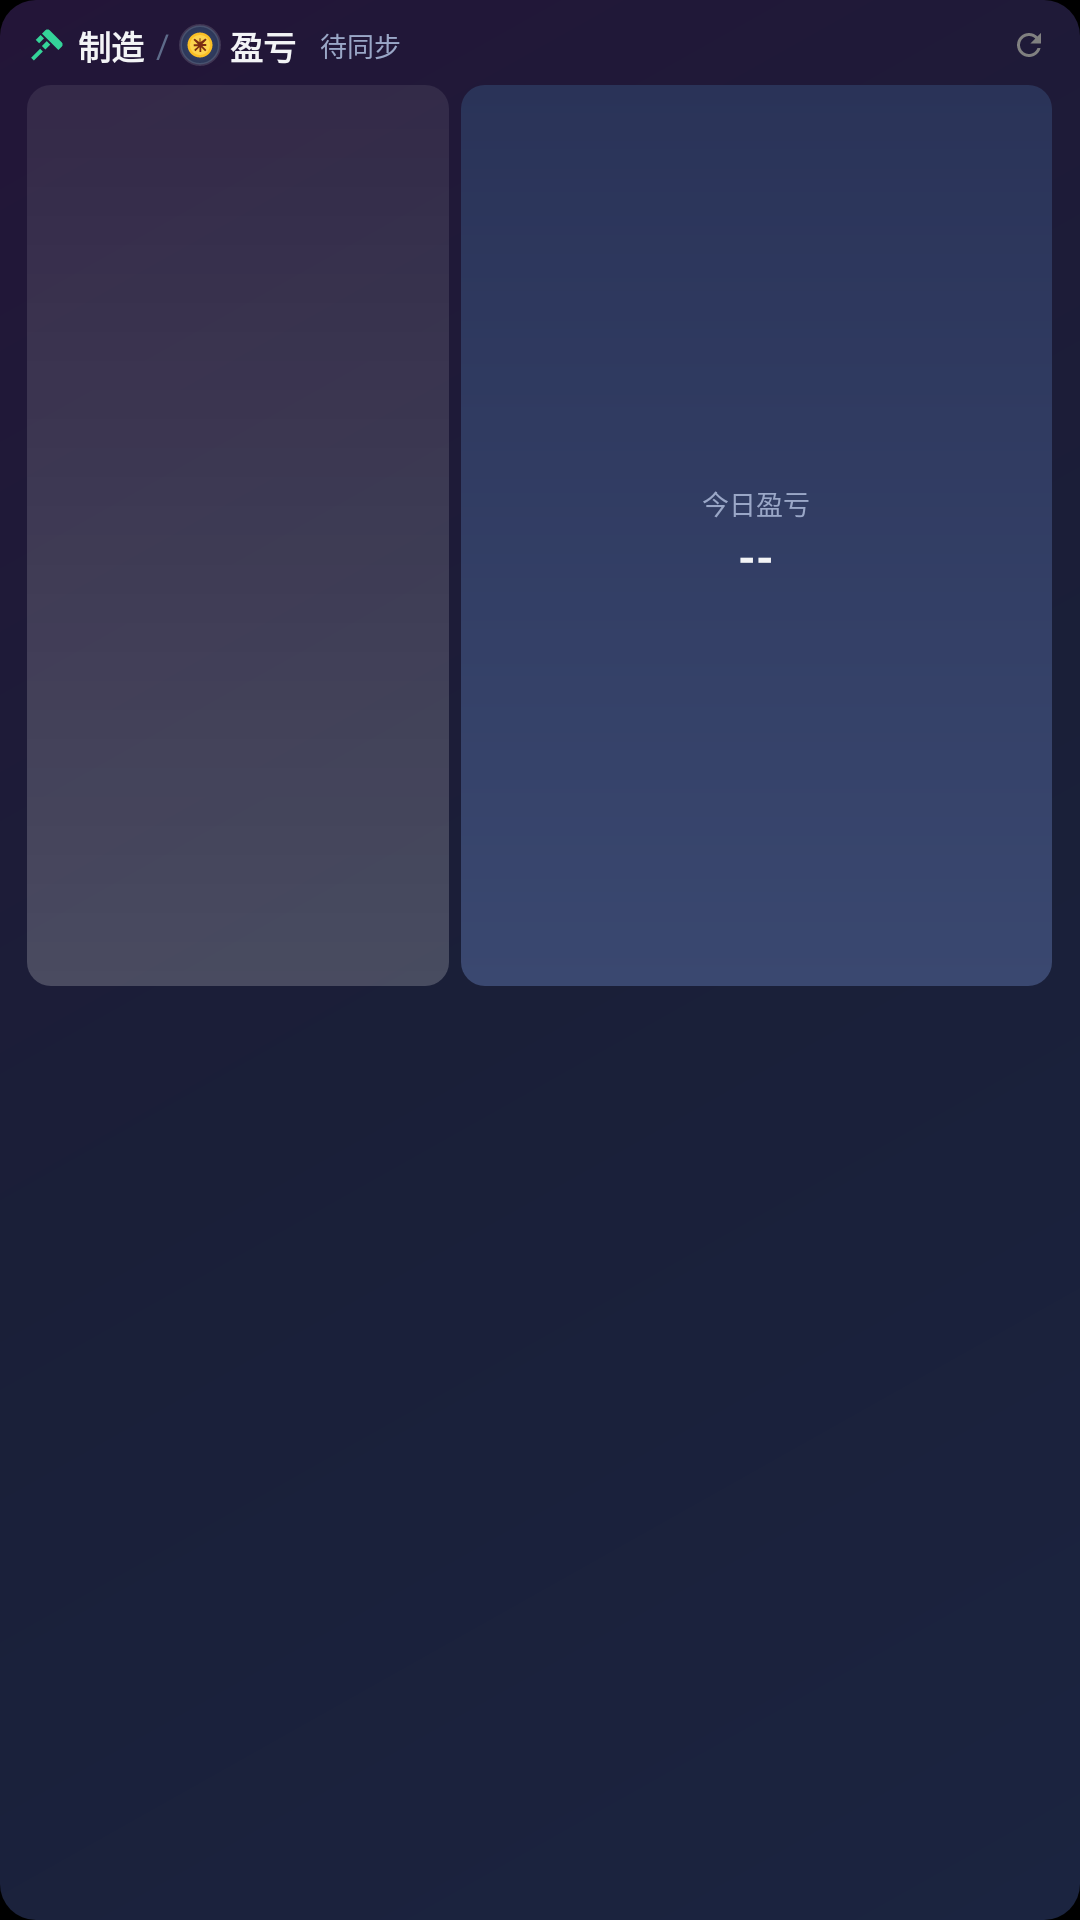

Icon click points for this 1080px x 1920px phone screenshot, format [x,y]:
coin: [200,45]
forge: [47,45]
refresh: [1029,45]
